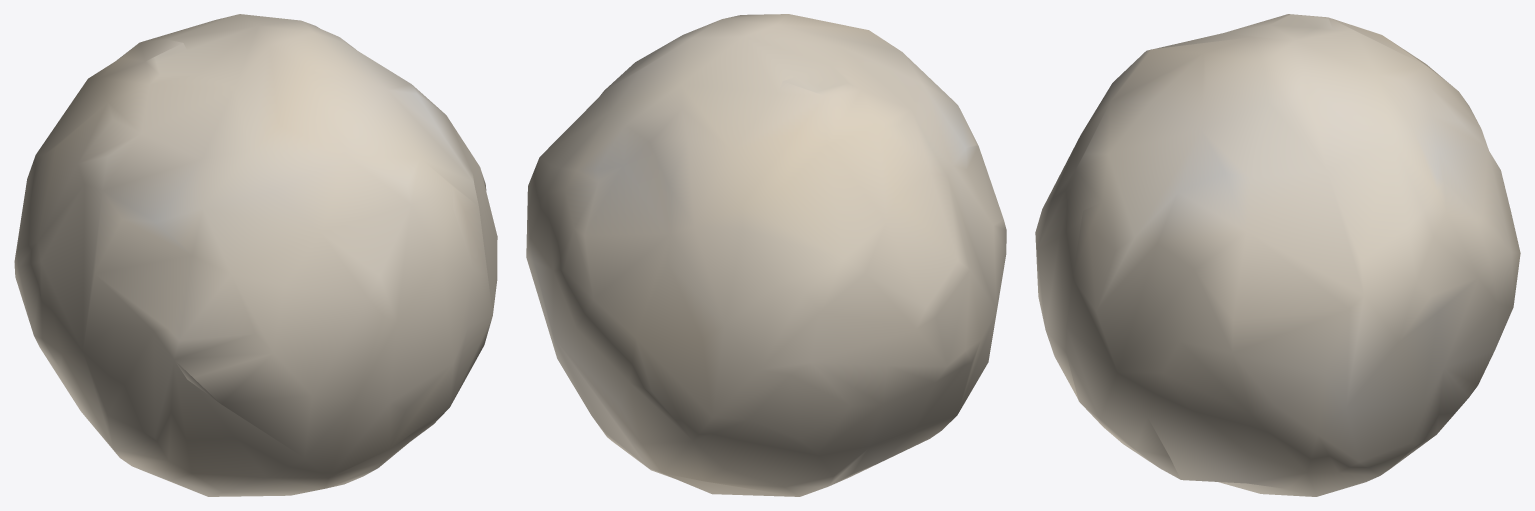
The model's file is space-asteroids-asteroid_v9.fbx.
3 renders of one model, left to right at view 1: azimuth 30°, elevation 25°; view 2: azimuth 150°, elevation 25°; view 3: azimuth 270°, elevation 25°, orthographic.
Visible parts, largest first — view 1: Asteroid_v9; view 2: Asteroid_v9; view 3: Asteroid_v9.
Part boxes in pixels (box(x1,y1,x2,y2)): Asteroid_v9: box(14, 14, 497, 496); Asteroid_v9: box(526, 14, 1006, 496); Asteroid_v9: box(1035, 14, 1520, 496).
Bounding box in the file's own units: 498 × 500 × 500.
